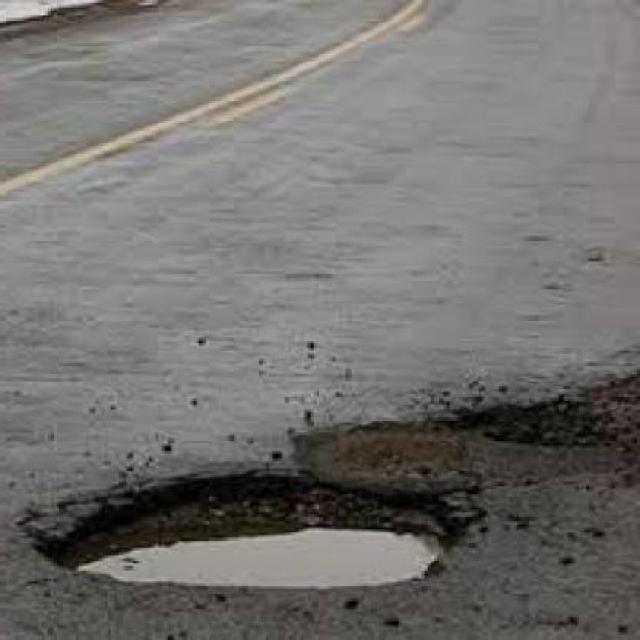pothole: (26, 458, 494, 592)
